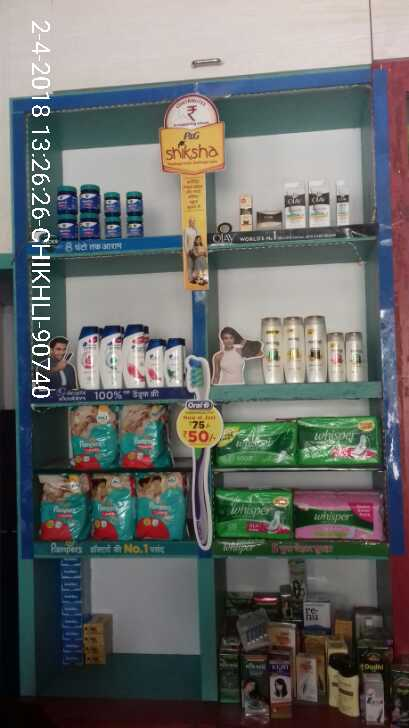vicks: (80, 211, 101, 240), (55, 214, 75, 241), (80, 185, 98, 211), (60, 185, 75, 214), (126, 190, 142, 213), (105, 216, 121, 237), (126, 213, 140, 235), (105, 193, 117, 216)
